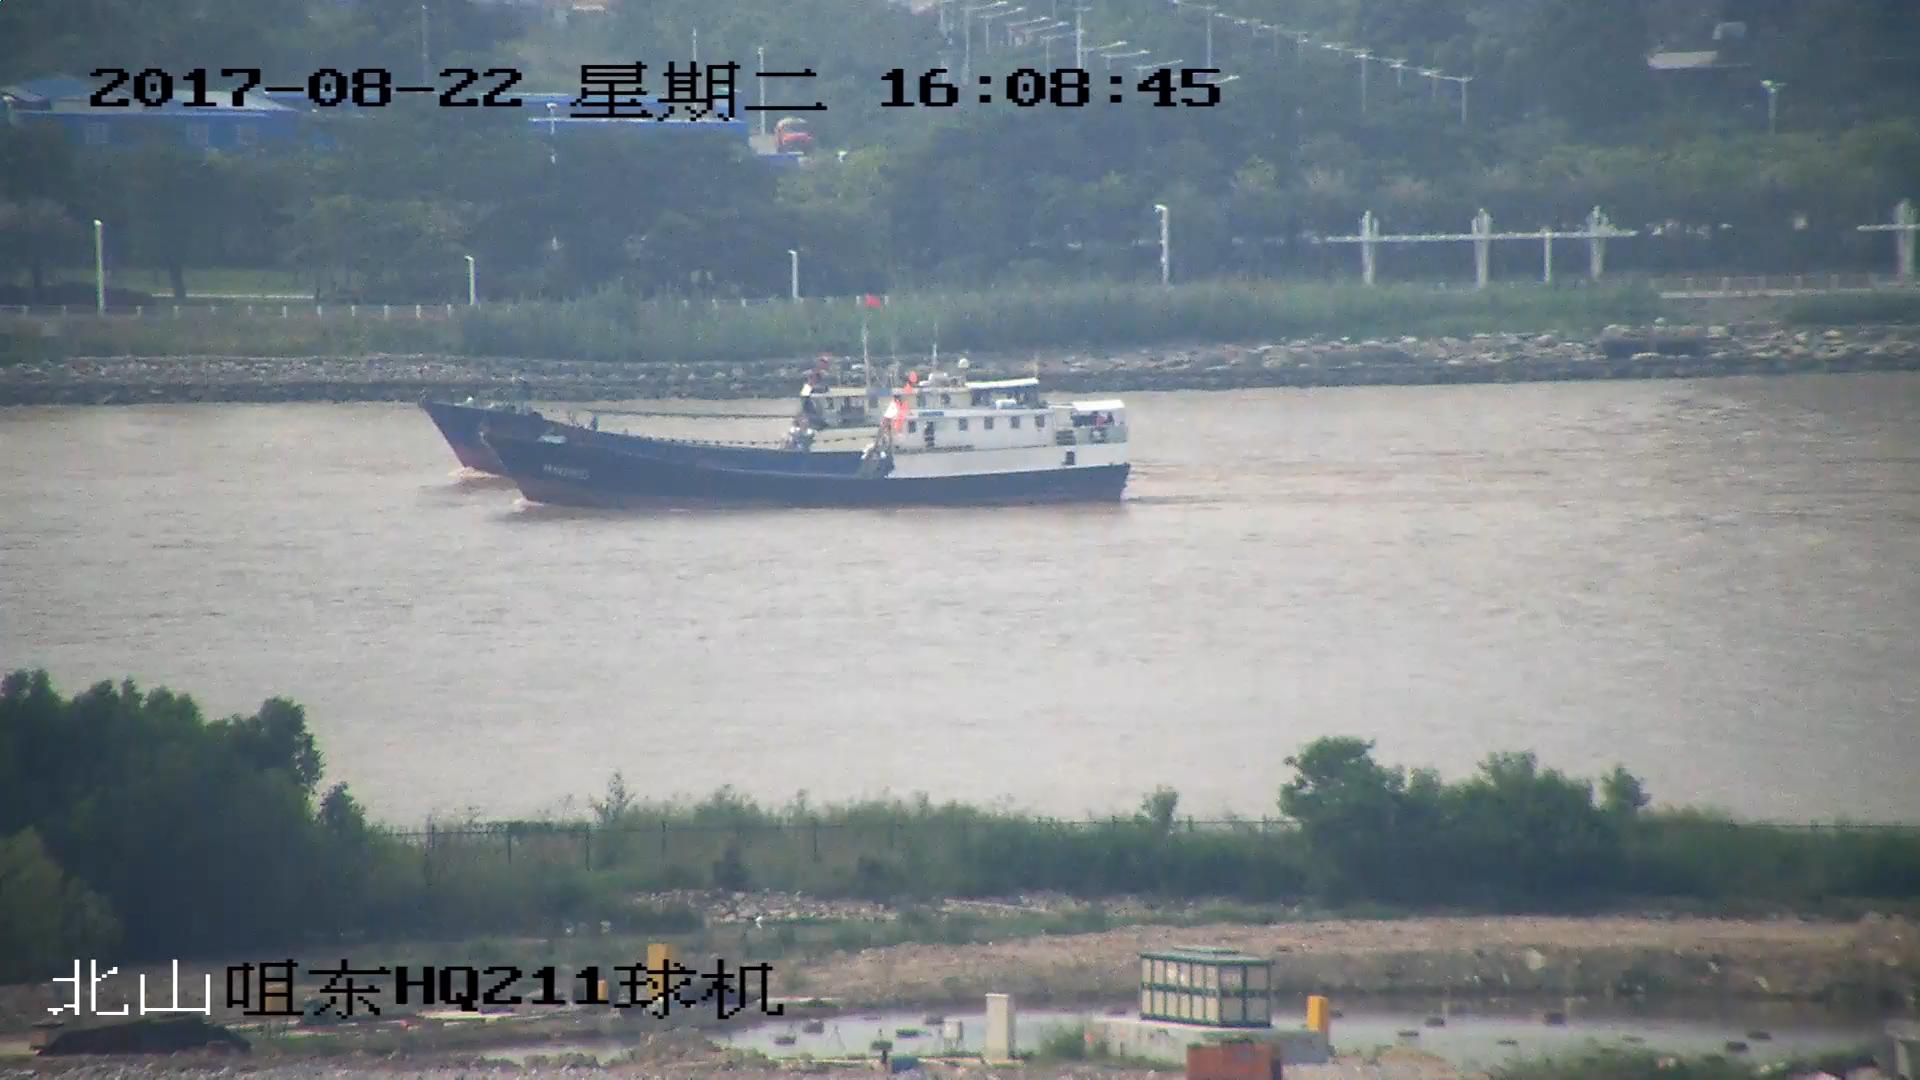fishing boat: (423, 295, 1036, 482), (487, 380, 1129, 510)
